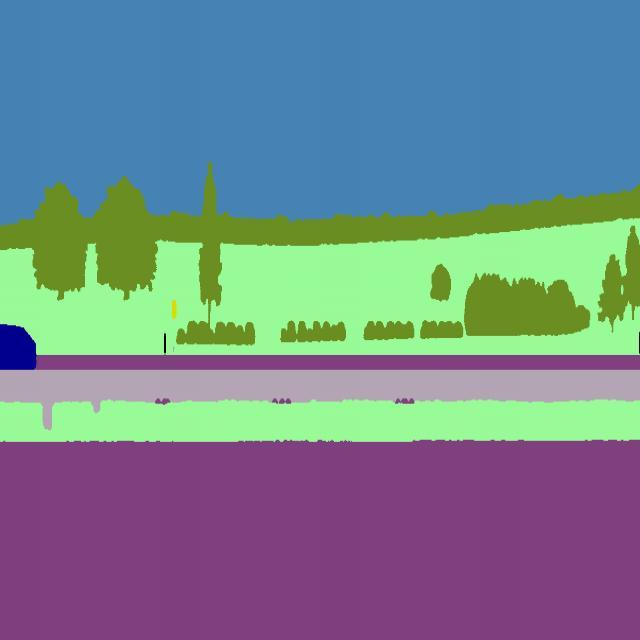safe: (0, 316, 39, 373)
